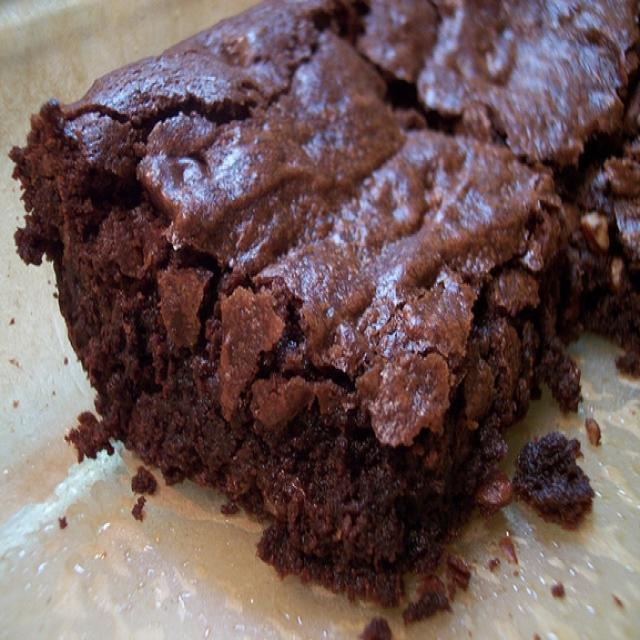蛋糕甜品: (6, 8, 626, 604)
